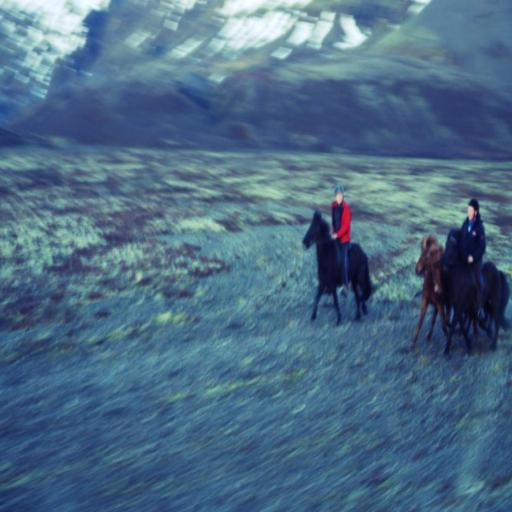horse: (441, 230, 512, 358), (301, 207, 374, 323), (410, 234, 472, 348)
